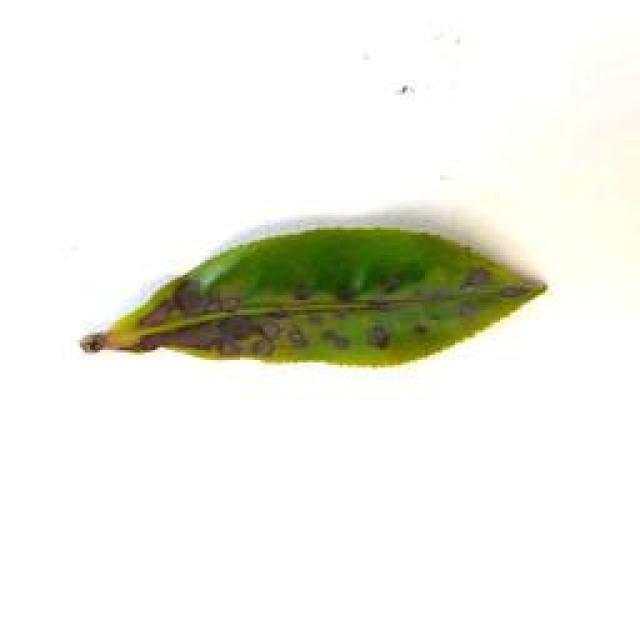Helopeltis: (72, 218, 551, 377)
